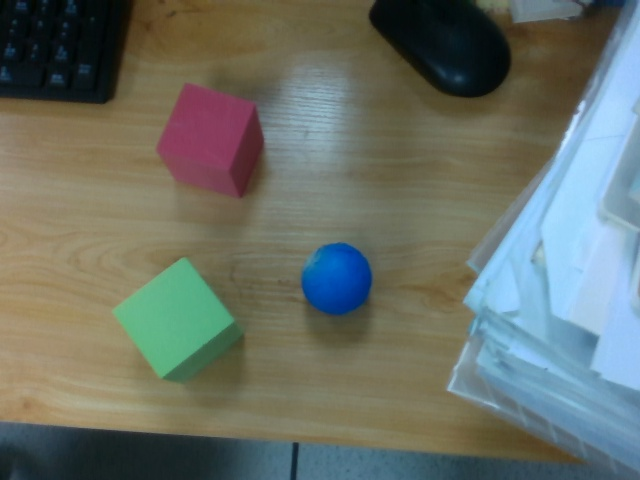blueball: (300, 238, 373, 317)
green: (108, 255, 244, 387)
red: (153, 79, 264, 199)
